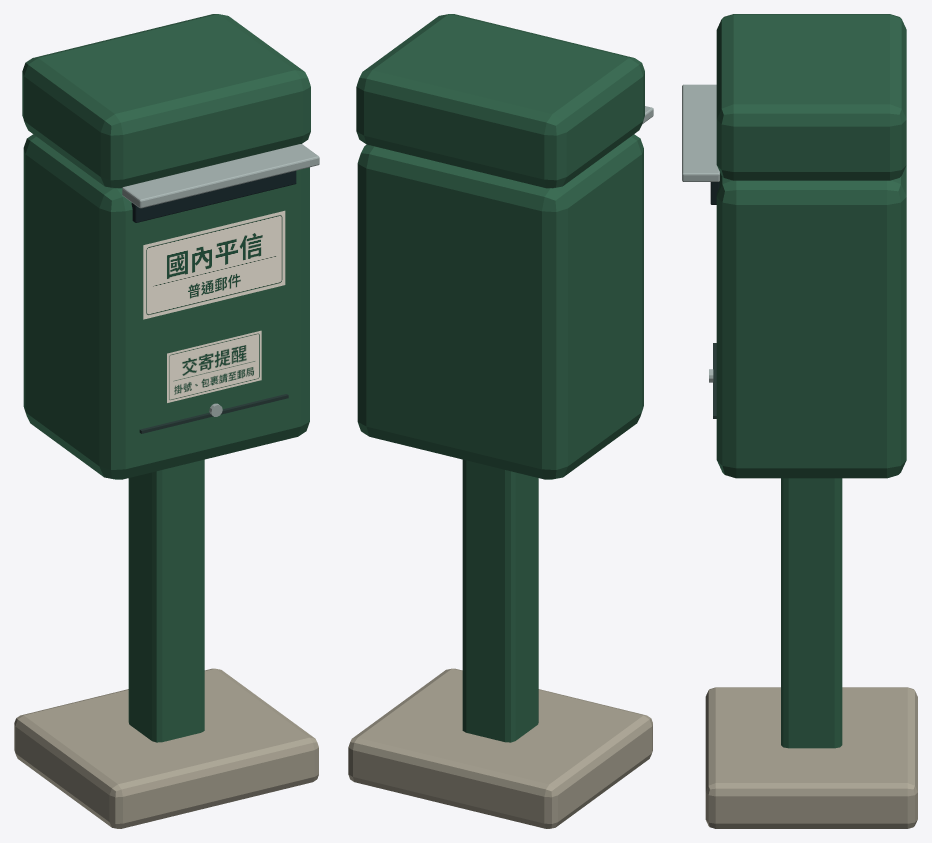
Rendered from 01_Postbox_Green.glb.
3 renders of one model, left to right at view 1: azimuth 30°, elevation 25°; view 2: azimuth 150°, elevation 25°; view 3: azimuth 270°, elevation 25°, orthographic. The views are drawn at different scales.
Visible parts, largest first — view 1: 01_Postbox_Green; view 2: 01_Postbox_Green; view 3: 01_Postbox_Green.
Boxes of the visible parts, left/top/right/bottom form: 01_Postbox_Green: left=14, top=14, right=319, bottom=828; 01_Postbox_Green: left=348, top=14, right=653, bottom=828; 01_Postbox_Green: left=682, top=14, right=917, bottom=828.
Size of the model in its own units: 0.44 by 1.43 by 0.422.
Materials: 6 (1 with a texture image).
